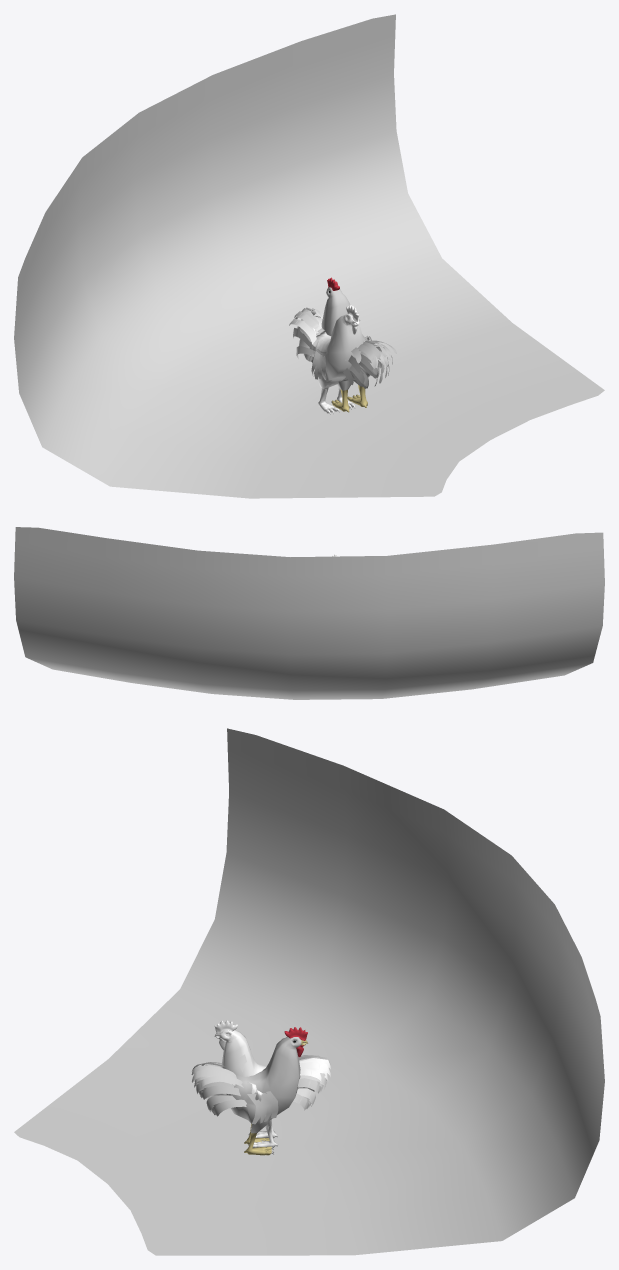
The model's file is chicken.fbx.
The picture shows the model from 3 angles, top to bottom: view 1: azimuth 30°, elevation 25°; view 2: azimuth 150°, elevation 25°; view 3: azimuth 270°, elevation 25°; orthographic projection. The views are drawn at different scales.
Visible parts, largest first — view 1: Plane_001, Cube_013, Cube_008, Cube_011, Cube; view 2: Plane_001; view 3: Plane_001, Cube_011, Cube_013, Cube_008, Cube.
Boxes of the visible parts, x1,y1,x2,y2 form: Plane_001: (14,14,604,498); Cube_013: (289,307,363,414); Cube_008: (343,340,396,388); Cube_011: (321,287,369,412); Cube: (289,308,371,411); Plane_001: (14,527,604,699); Plane_001: (14,728,604,1255); Cube_011: (226,1036,307,1155); Cube_013: (214,1030,330,1147); Cube_008: (191,1062,246,1116); Cube: (217,1030,330,1146).
Bounding box in the file's own units: 44.06 × 17.33 × 37.94.
